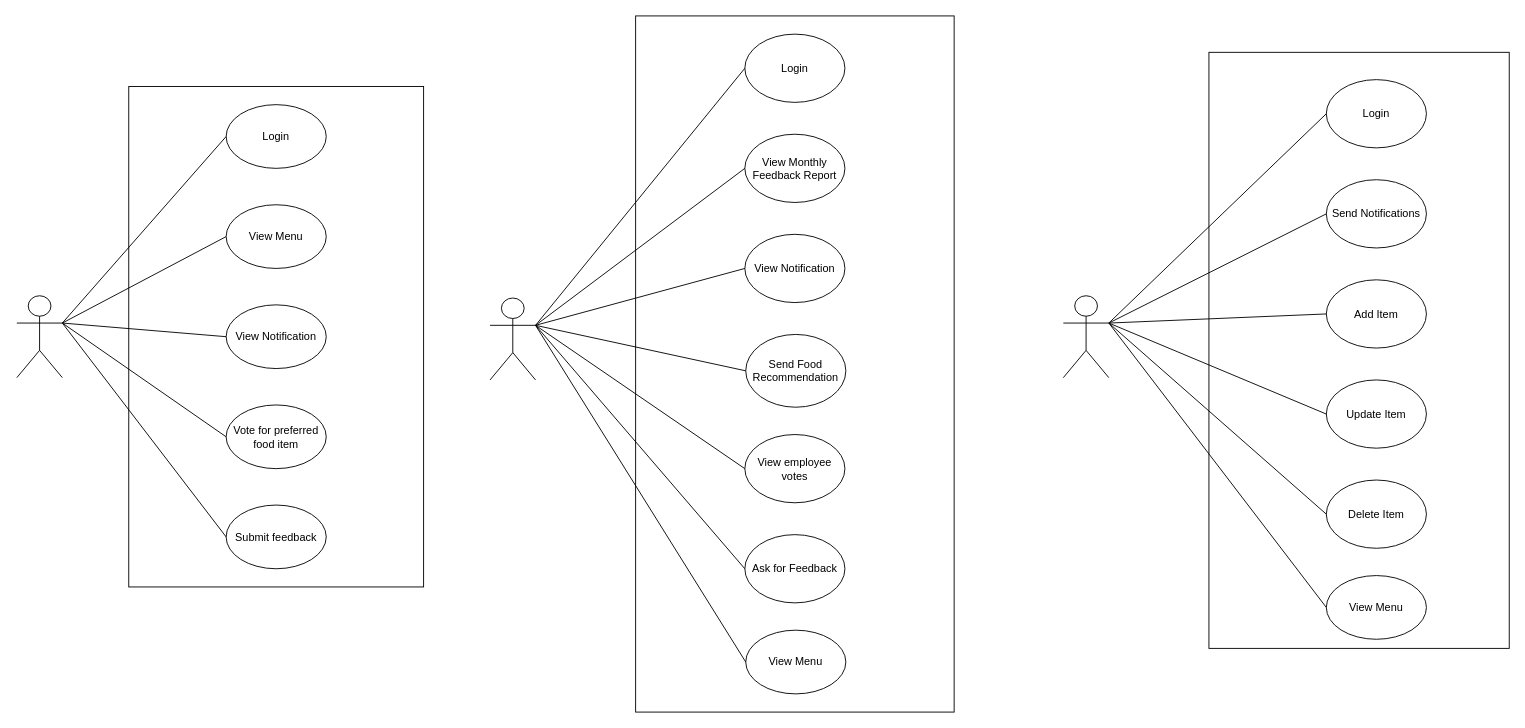
The diagram is 1525 pixels wide and 728 high, and some of its shapes have lost their labels. Here are the shapes that lost their labels. From the top down, the centre of each, then its label:
point 39,336: Employee
point 512,338: Chef
point 1085,336: Admin
